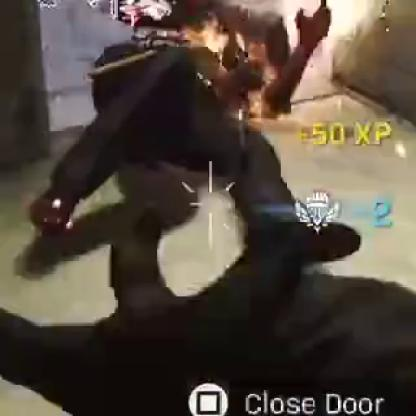enemy: (5, 3, 360, 265)
